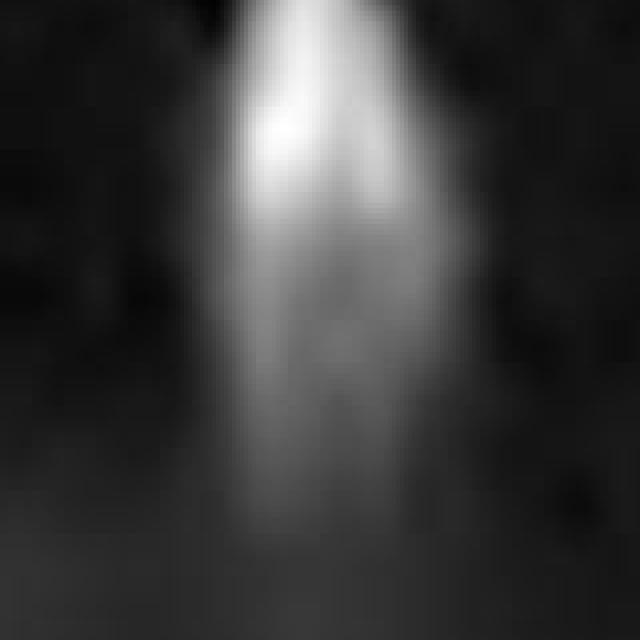person: (149, 1, 493, 529)
